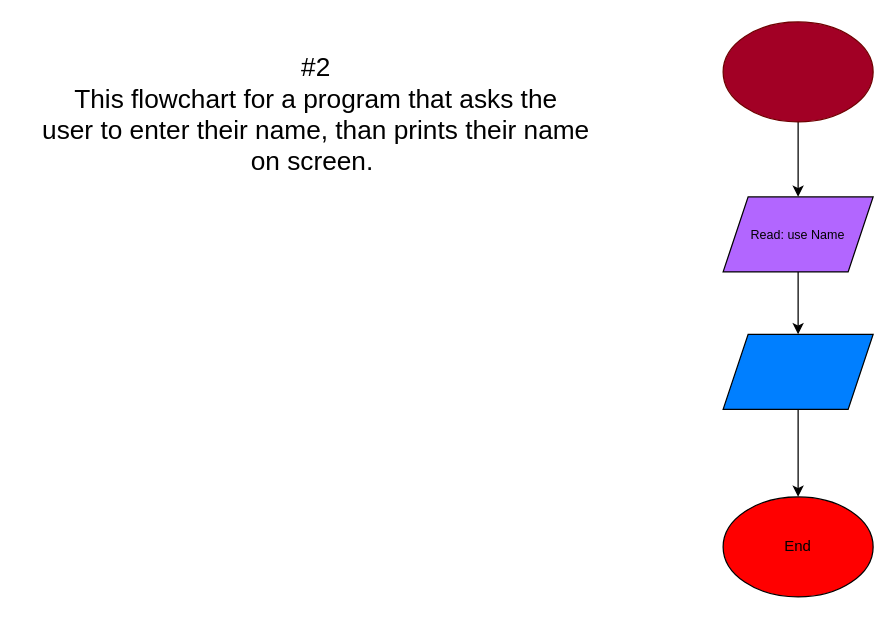
The diagram is 895 pixels wide and 619 high, and some of its shapes have lost their labels. The shapes that lost their labels are listed below. From the top down, each one's centre as x and y in pixels, then its label:
point 797,71: Start
point 797,371: Print: use Name
